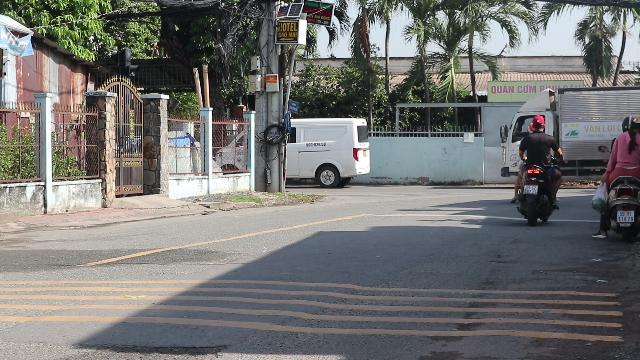helmet: (620, 114, 638, 132)
licenseplate: (617, 210, 633, 221), (524, 186, 538, 194)
motorcyclist: (590, 113, 640, 241), (510, 114, 562, 224)
nohelmet: (530, 115, 546, 133)
